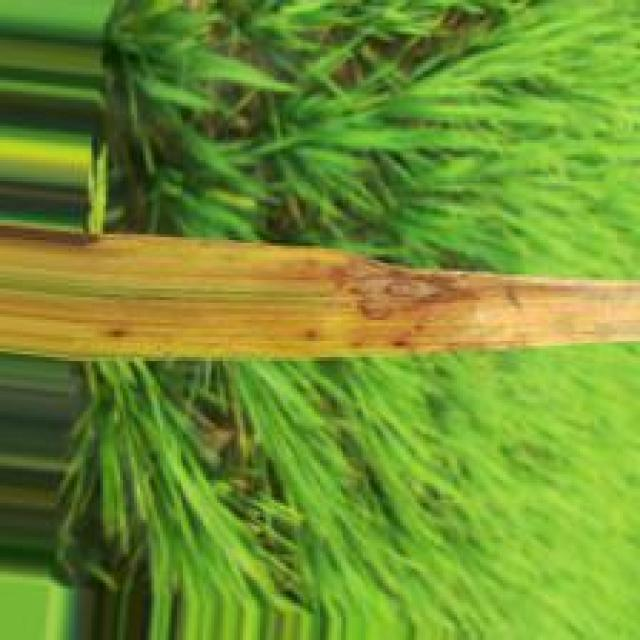Bacterial_Leaf_Blight: (0, 234, 638, 359), (323, 256, 485, 319), (2, 275, 330, 306), (0, 226, 107, 249), (391, 322, 425, 349), (111, 324, 131, 338), (306, 329, 320, 342)
